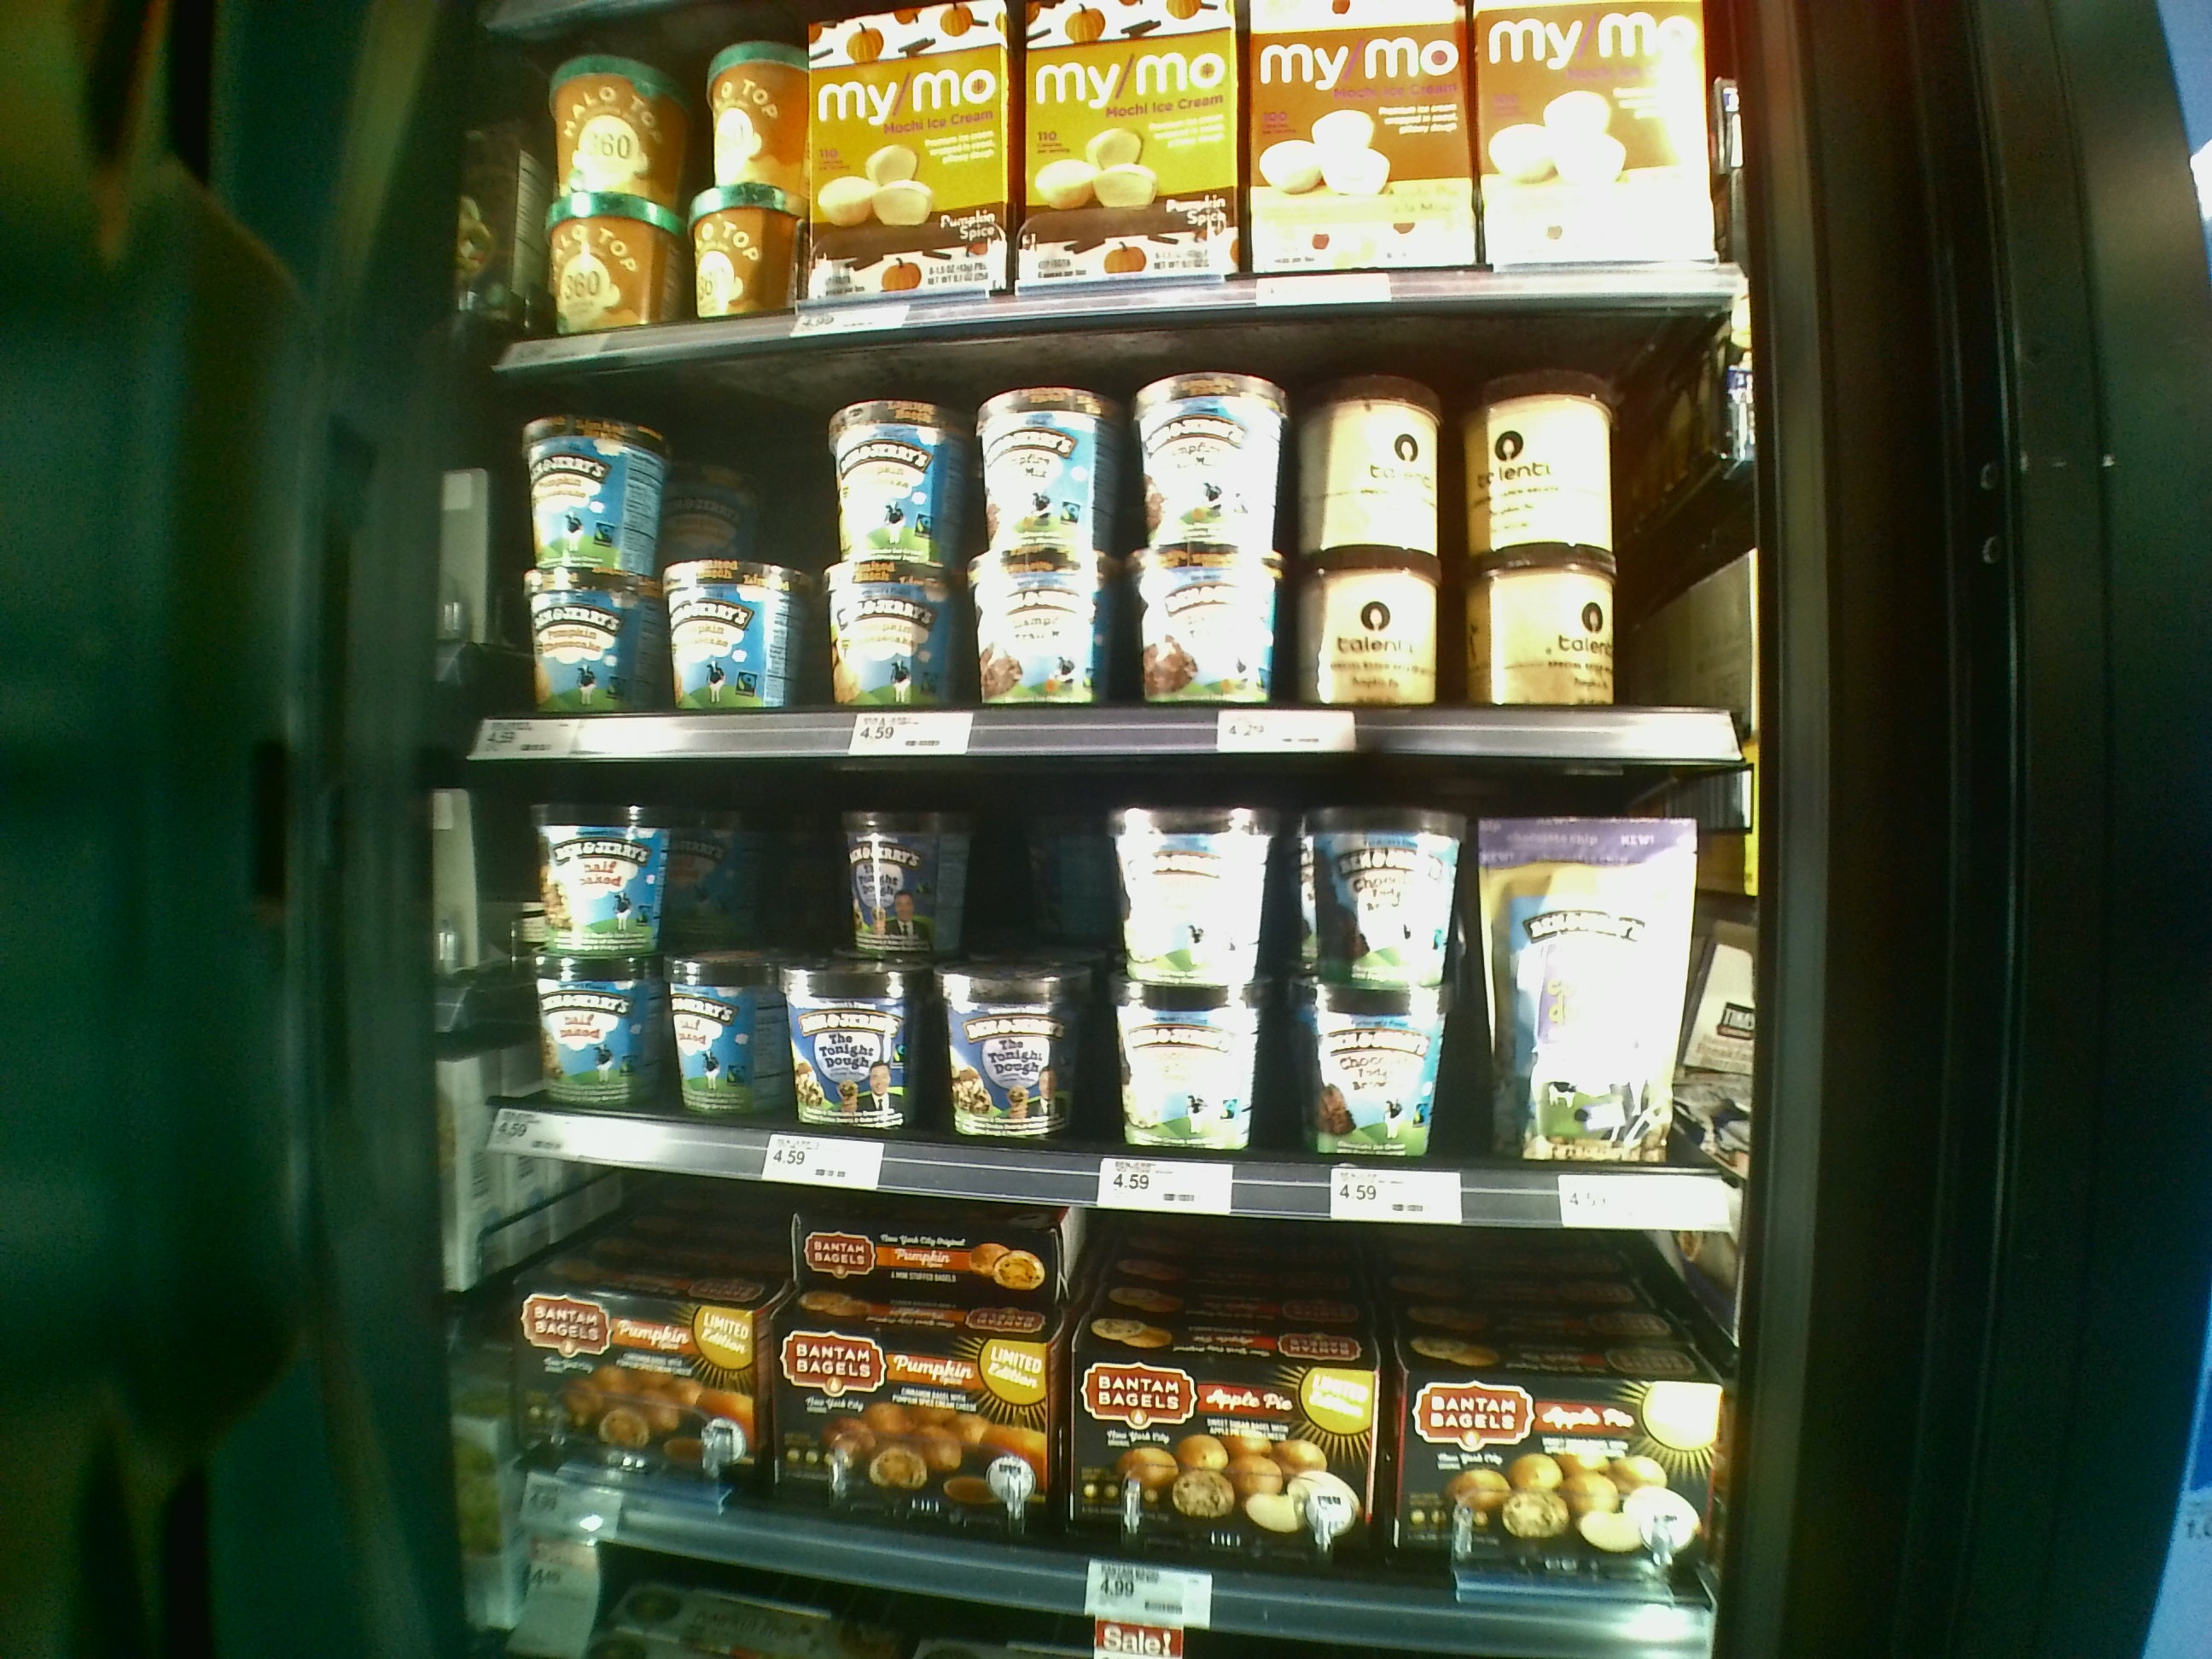shelf: (474, 732, 1735, 1229), (493, 1134, 1705, 1647), (489, 308, 1737, 753)
